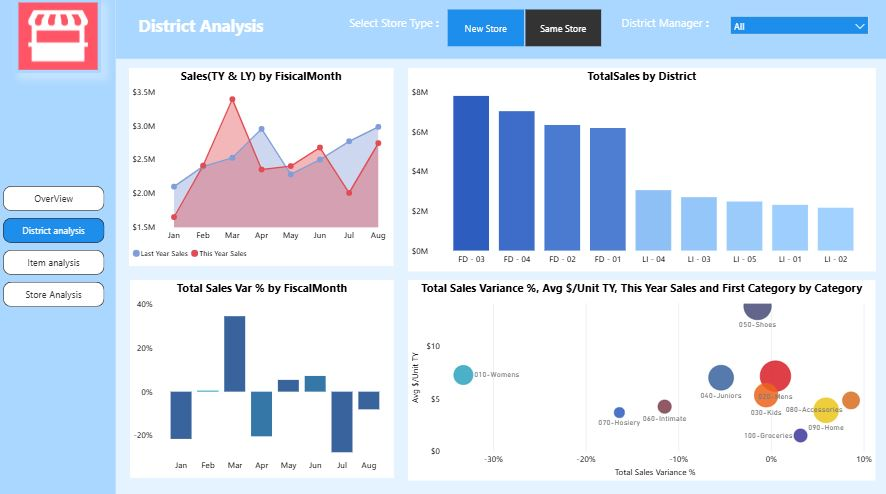

What the dashboard file says about the page in this screenshot:
{"tool":"powerbi","page":{"name":"District analysis","canvas":[1280,720],"ordinal":1},"visuals":[{"type":"shape","box":[0,0,168.5,1399.7],"z":0},{"type":"shape","box":[168.5,0,1192.3,89.3],"z":1000},{"type":"actionButton","box":[165.6,13,250.6,54.7],"z":2000},{"type":"areaChart","title":"Sales(TY & LY) by FisicalMonth","fields":{"Category":["Time.FiscalMonth"],"Y":["Sales.Last Year Sales","Sales.This Year Sales"]},"box":[187,102.5,380.8,285.1],"z":3000},{"type":"clusteredColumnChart","fields":{"Category":["select"],"Y":["Sales.Total Sales Var %"]},"box":[188.6,407.5,380.2,285.1],"z":4000},{"type":"scatterChart","fields":{"Category":["Item.Category"],"X":["Sales.Total Sales Variance %"],"Y":["Sales.Avg $/Unit TY"],"Size":["Sales.This Year Sales"]},"box":[589.6,408.2,673.2,289.1],"z":5000},{"type":"slicer","fields":{"Values":["District.DM"]},"box":[1042.6,17.3,220.3,50.4],"z":6000},{"type":"textbox","box":[891.4,21.6,161.3,54.7],"z":7000},{"type":"lineClusteredColumnComboChart","fields":{"Category":["District.District"],"Y":["Sales.TotalSales"]},"box":[589.3,102.5,673.8,293],"z":8000},{"type":"slicer","fields":{"Values":["Store.Store Type"]},"box":[622.1,13,269.3,63.4],"z":9000},{"type":"textbox","box":[416.2,21.6,305.3,67.7],"z":10000},{"type":"pageNavigator","box":[5.8,272.2,146.9,175.7],"z":11000},{"type":"image","box":[23,2.9,123.8,106.6],"z":11001}]}

Visuals, with their boxes on the page's 1280x720 design canvas (x1, y1, x2, y2). These are canvas units, not pixel positions in the 886x494 screenshot, which may show the page scaled, cropped or inside an application window:
shape: <region>0, 0, 168, 1400</region>
shape: <region>168, 0, 1361, 89</region>
actionButton: <region>166, 13, 416, 68</region>
"Sales(TY & LY) by FisicalMonth" areaChart: <region>187, 102, 568, 388</region>
clusteredColumnChart - select x Sales.Total Sales Var %: <region>189, 408, 569, 693</region>
scatterChart - Item.Category x Sales.Total Sales Variance %: <region>590, 408, 1263, 697</region>
slicer - District.DM: <region>1043, 17, 1263, 68</region>
textbox: <region>891, 22, 1053, 76</region>
lineClusteredColumnComboChart - District.District x Sales.TotalSales: <region>589, 102, 1263, 396</region>
slicer - Store.Store Type: <region>622, 13, 891, 76</region>
textbox: <region>416, 22, 722, 89</region>
pageNavigator: <region>6, 272, 153, 448</region>
image: <region>23, 3, 147, 110</region>
